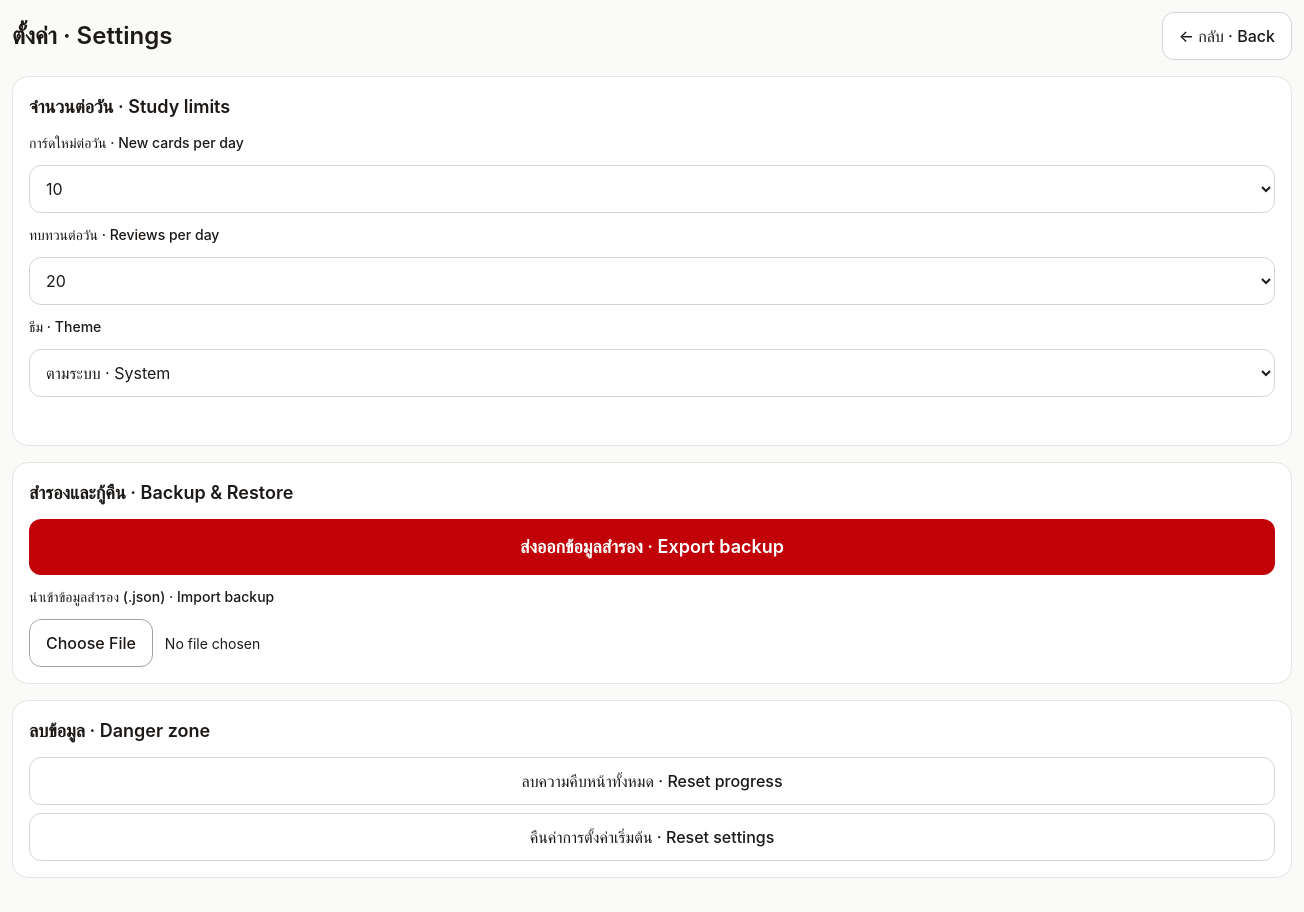
study limits and theme › shows defaults, saves a new value through the repository and confirms it
The image size is (1304, 912).
Check: the dropdown labelled "ทบทวนต่อวัน · Reviews per day" shows "20", box [29,257,1275,305]
Select "30" in the dropdown labelled "การ์ดใหม่ต่อวัน · New cards per day": (652, 189) [29,165,1275,213]
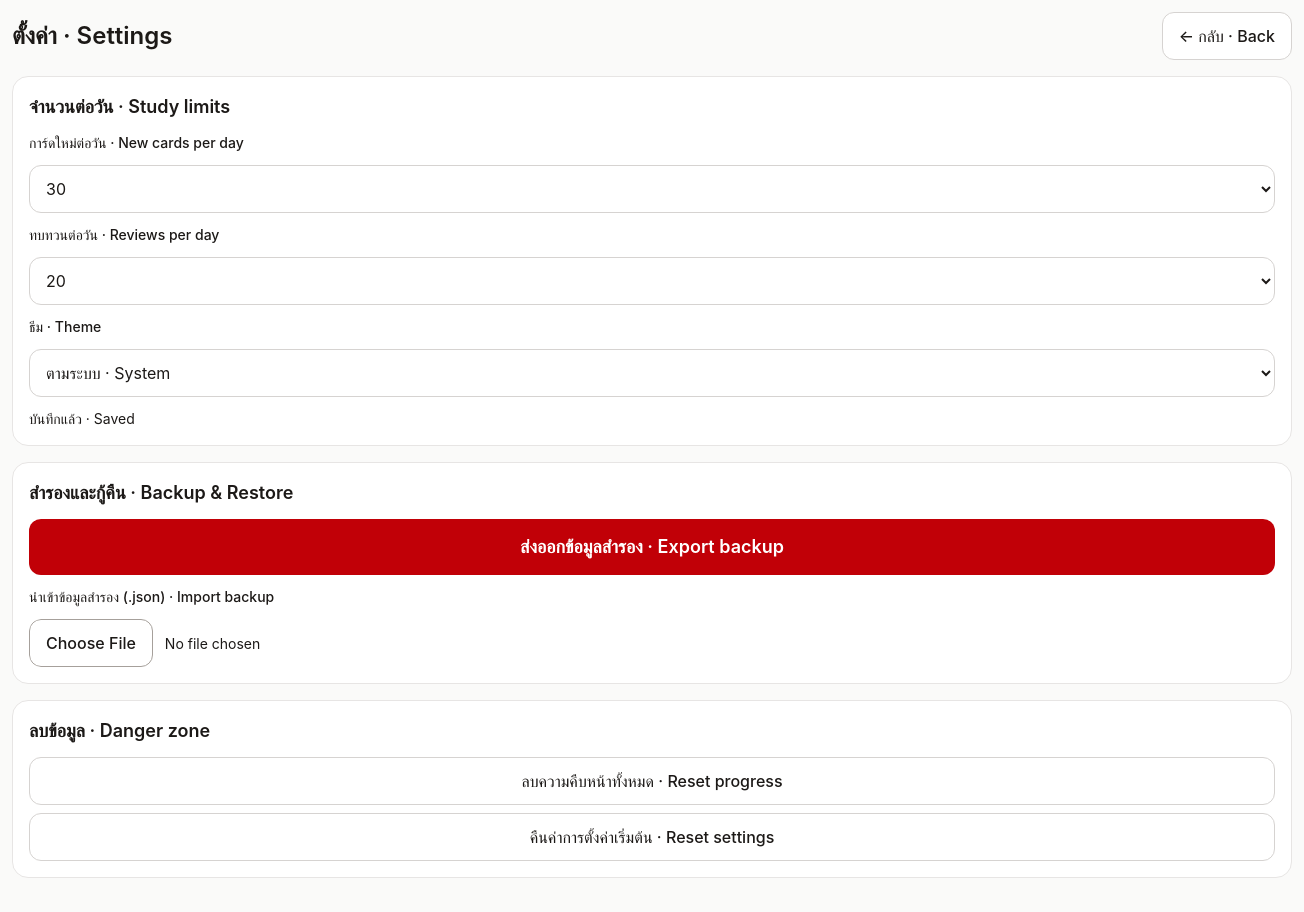
Check: the text "บันทึกแล้ว · Saved" is shown, box [29,410,135,427]
